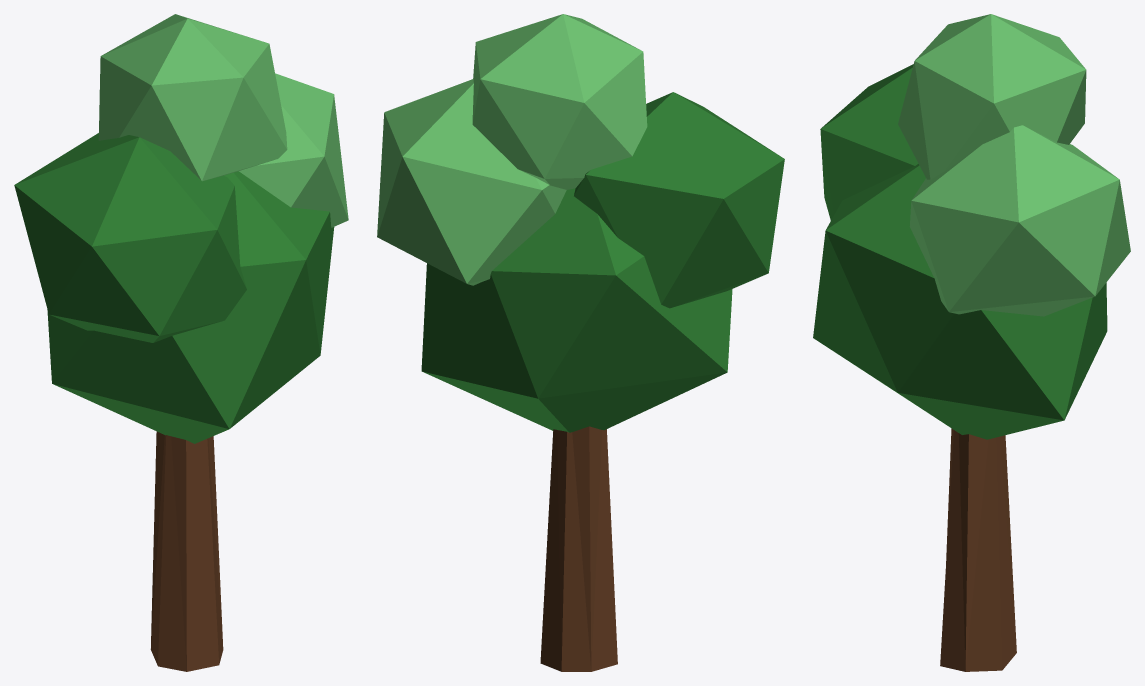
Rendered from tree.obj.
3 renders of one model, left to right at view 1: azimuth 30°, elevation 25°; view 2: azimuth 150°, elevation 25°; view 3: azimuth 270°, elevation 25°, orthographic. The views are drawn at different scales.
Parts seen in each view (by area): view 1: tree; view 2: tree; view 3: tree.
Part boxes in pixels (box(x1,y1,x2,y2)): tree: box(14, 14, 348, 671); tree: box(377, 14, 784, 671); tree: box(813, 14, 1130, 671).
Size of the model in its own units: 6.23 by 11.39 by 5.06.
Materials: 1 (1 with a texture image).
